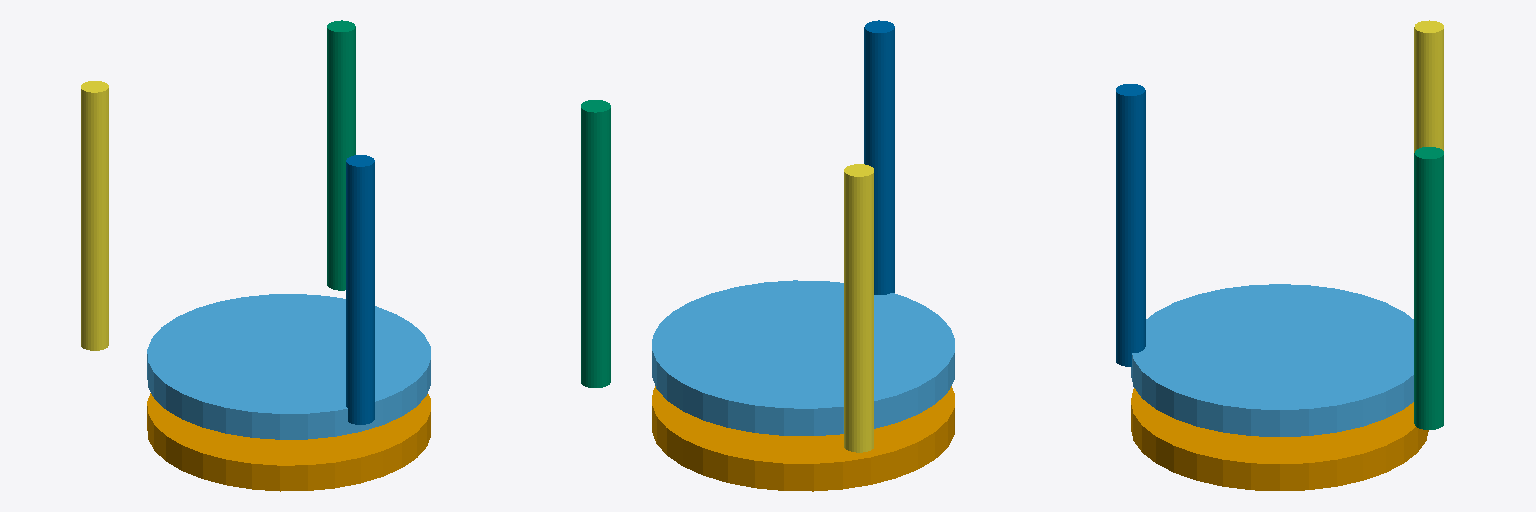
URDF robot description (parallel_platform):
<?xml version="1.0"?>
<robot name="parallel_platform">

  <!-- Base link -->
  <link name="base">
    <visual>
      <geometry>
        <cylinder length="0.1" radius="0.5"/>
      </geometry>
    </visual>
  </link>

  <!-- Platform link -->
  <link name="platform">
    <visual>
      <geometry>
        <cylinder length="0.1" radius="0.5"/>
      </geometry>
    </visual>
  </link>

  <!-- Leg links -->
  <link name="leg1">
    <visual>
      <geometry>
        <cylinder length="1.0" radius="0.05"/>
      </geometry>
    </visual>
  </link>

  <link name="leg2">
    <visual>
      <geometry>
        <cylinder length="1.0" radius="0.05"/>
      </geometry>
    </visual>
  </link>

  <link name="leg3">
    <visual>
      <geometry>
        <cylinder length="1.0" radius="0.05"/>
      </geometry>
    </visual>
  </link>

  <!-- Joints connecting base to platform -->
  <joint name="base_to_platform" type="fixed">
    <parent link="base"/>
    <child link="platform"/>
    <origin xyz="0 0 0.2" rpy="0 0 0"/>
  </joint>

  <!-- Prismatic joints connecting platform to legs -->
  <joint name="platform_to_leg1" type="prismatic">
    <parent link="platform"/>
    <child link="leg1"/>
    <origin xyz="0.5 0.5 0.5" rpy="0 0 0"/>
    <axis xyz="0 0 1"/>
    <limit lower="0" upper="1.0" effort="1000" velocity="1"/>
  </joint>

  <joint name="platform_to_leg2" type="prismatic">
    <parent link="platform"/>
    <child link="leg2"/>
    <origin xyz="-0.5 0.5 0.5" rpy="0 0 0"/>
    <axis xyz="0 0 1"/>
    <limit lower="0" upper="1.0" effort="1000" velocity="1"/>
  </joint>

  <joint name="platform_to_leg3" type="prismatic">
    <parent link="platform"/>
    <child link="leg3"/>
    <origin xyz="0 -0.5 0.5" rpy="0 0 0"/>
    <axis xyz="0 0 1"/>
    <limit lower="0" upper="1.0" effort="1000" velocity="1"/>
  </joint>

</robot>

--- Facts derived from the render (not from the file) ---
The picture shows the robot from 3 angles, left to right: view 1: azimuth 30°, elevation 25°; view 2: azimuth 150°, elevation 25°; view 3: azimuth 270°, elevation 25°; orthographic projection.
Model parallel_platform with 5 links and 4 joints (3 prismatic, 1 fixed), rooted at base, posed all joints at 0.
Links seen in each view (by area): view 1: platform, base, leg3, leg2, leg1; view 2: platform, base, leg2, leg1, leg3; view 3: platform, base, leg1, leg3, leg2.
Boxes of the visible links, x1=… form: platform: x1=147, y1=294, x2=430, y2=439; base: x1=147, y1=393, x2=430, y2=491; leg3: x1=346, y1=155, x2=374, y2=424; leg2: x1=81, y1=81, x2=108, y2=350; leg1: x1=327, y1=20, x2=355, y2=290; platform: x1=652, y1=280, x2=954, y2=435; base: x1=652, y1=386, x2=954, y2=491; leg2: x1=844, y1=164, x2=873, y2=452; leg1: x1=581, y1=100, x2=610, y2=387; leg3: x1=864, y1=20, x2=894, y2=294; platform: x1=1131, y1=284, x2=1413, y2=436; base: x1=1131, y1=388, x2=1428, y2=490; leg1: x1=1414, y1=147, x2=1443, y2=429; leg3: x1=1116, y1=84, x2=1145, y2=366; leg2: x1=1414, y1=20, x2=1443, y2=152.
Bounding box of the posed robot: 1.1 × 1.1 × 1.25 m (x, y, z).
Geometry: primitives only (box / cylinder / sphere), no mesh files.